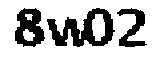0: (87, 6, 112, 51)
2: (116, 5, 152, 51)
8: (12, 4, 45, 50)
w: (44, 15, 86, 52)
